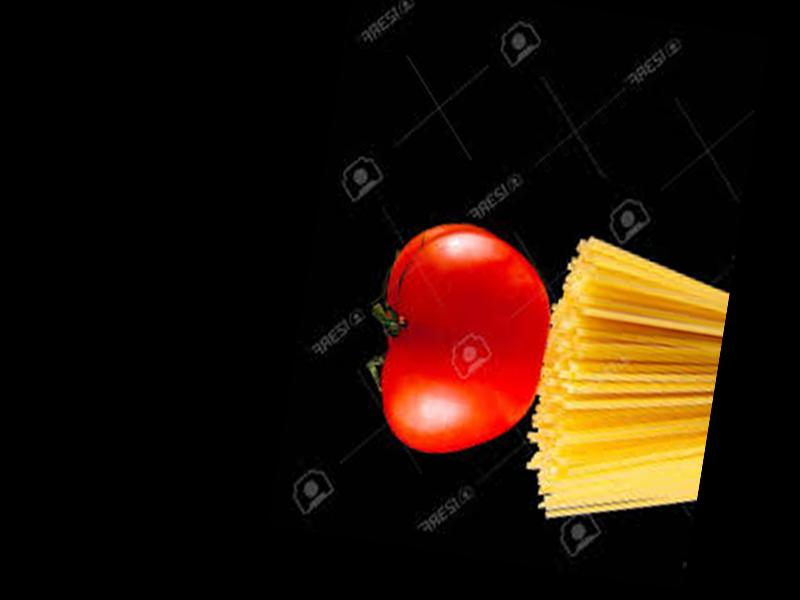Tomato: (362, 217, 563, 467)
